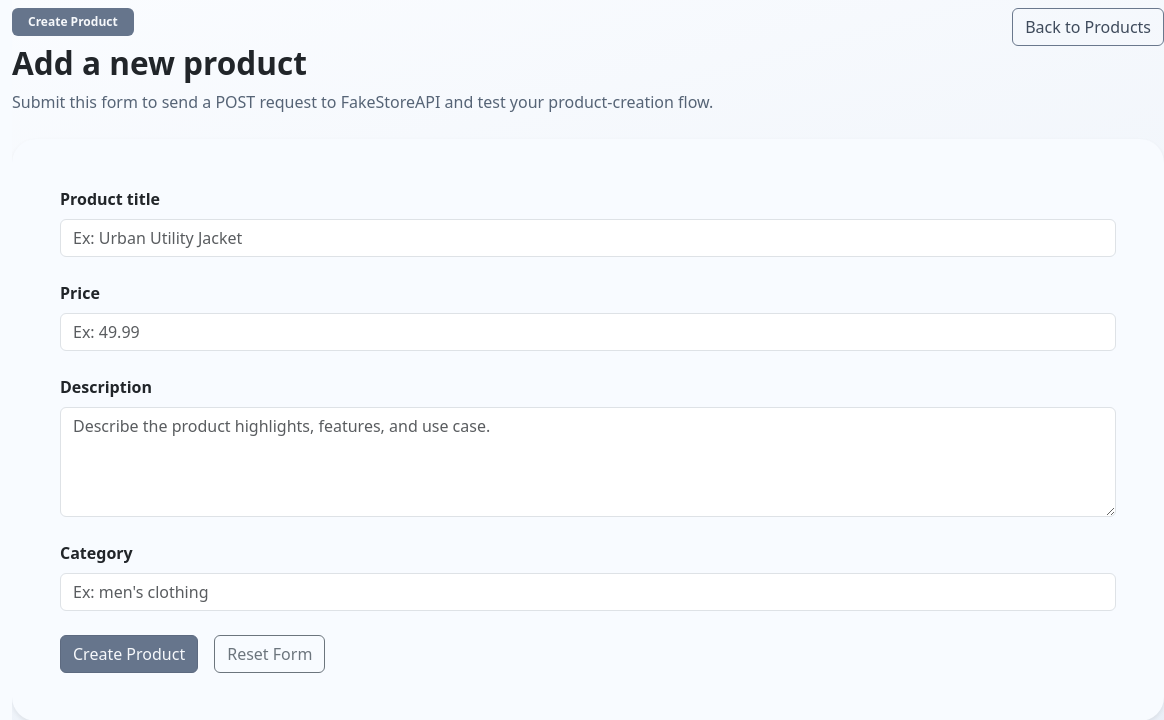
Test case: Fake Store smoke tests › shows validation errors on add product submit
The image size is (1164, 720).
Click the button "Create Product".
click(129, 654)  # box x1=60 y1=636 x2=198 y2=674
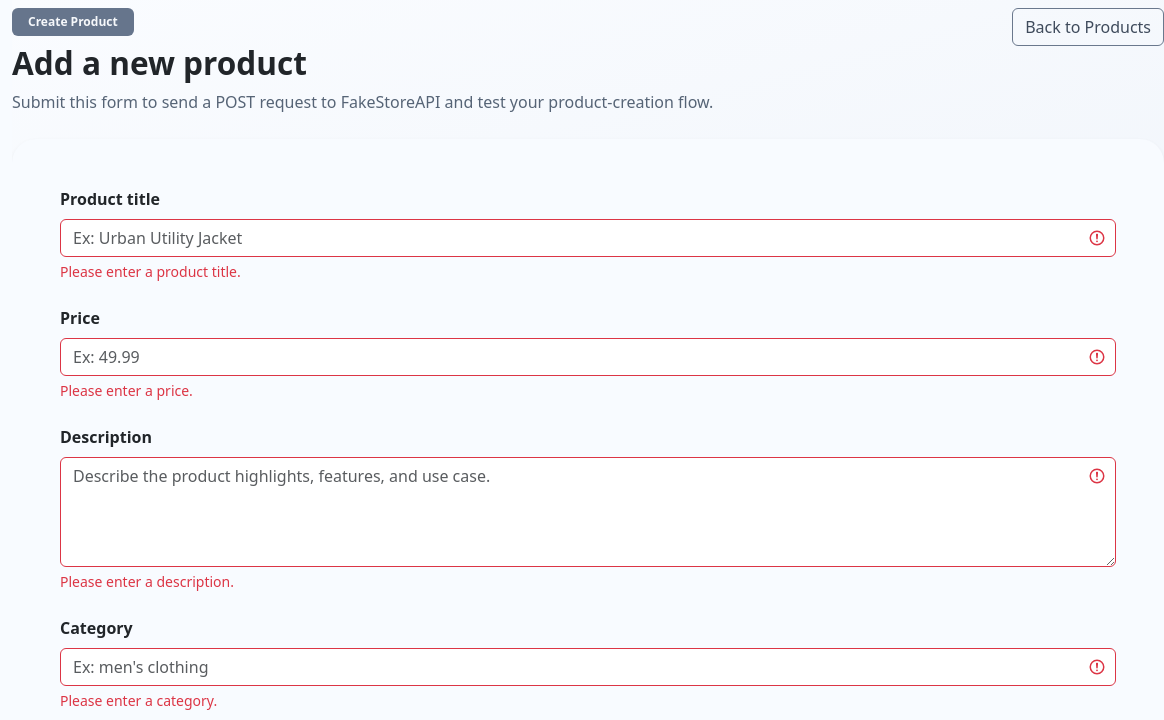
Now the text "Please enter a product title." is shown, box x1=60 y1=262 x2=241 y2=282
Now the text "Please enter a price." is shown, box x1=60 y1=382 x2=193 y2=400
